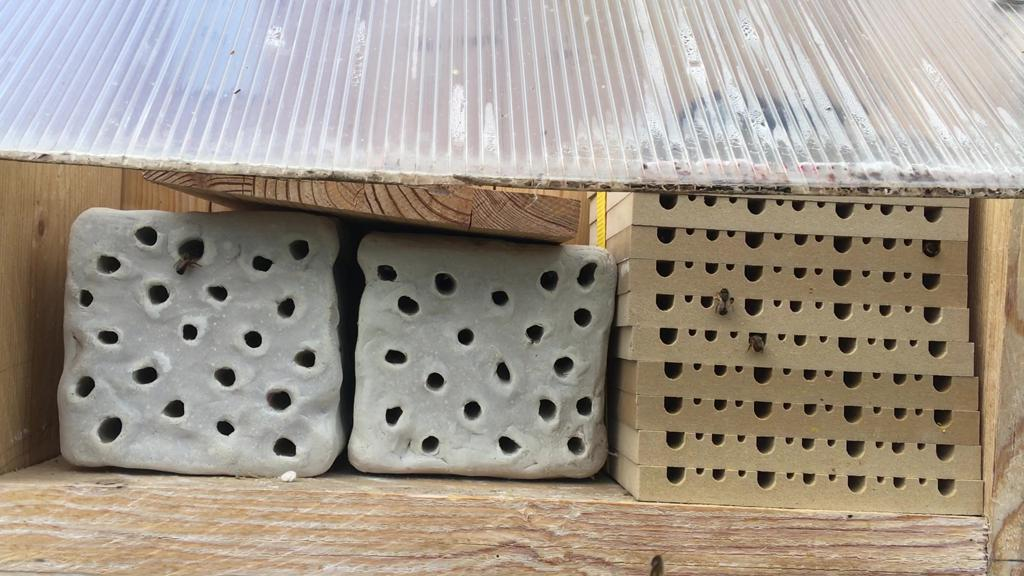bee: (742, 324, 773, 359)
